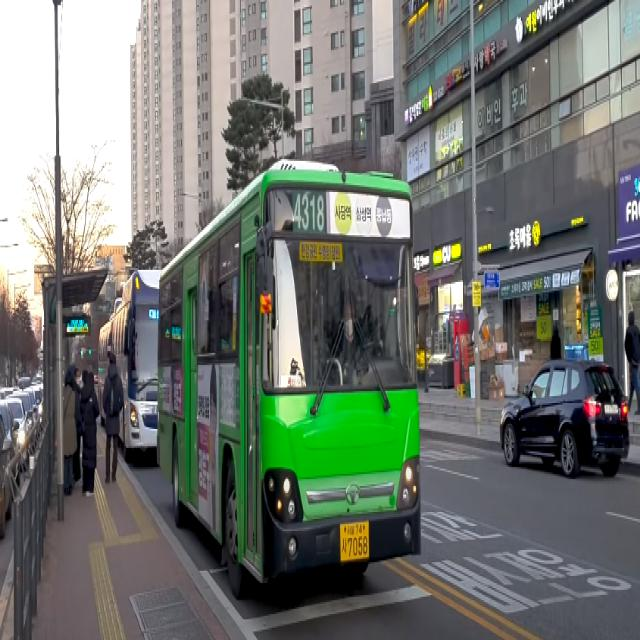bus-number: (292, 191, 326, 234)
